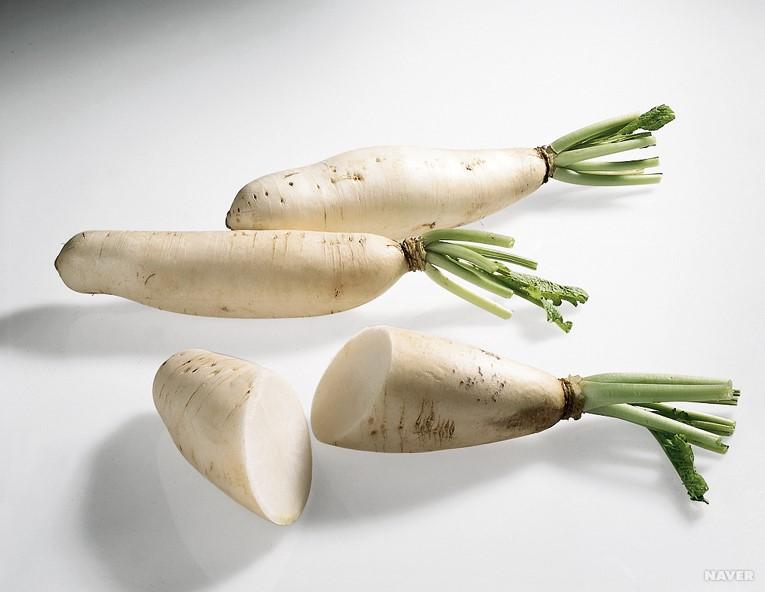radish: (369, 301, 683, 411), (82, 210, 506, 290)
